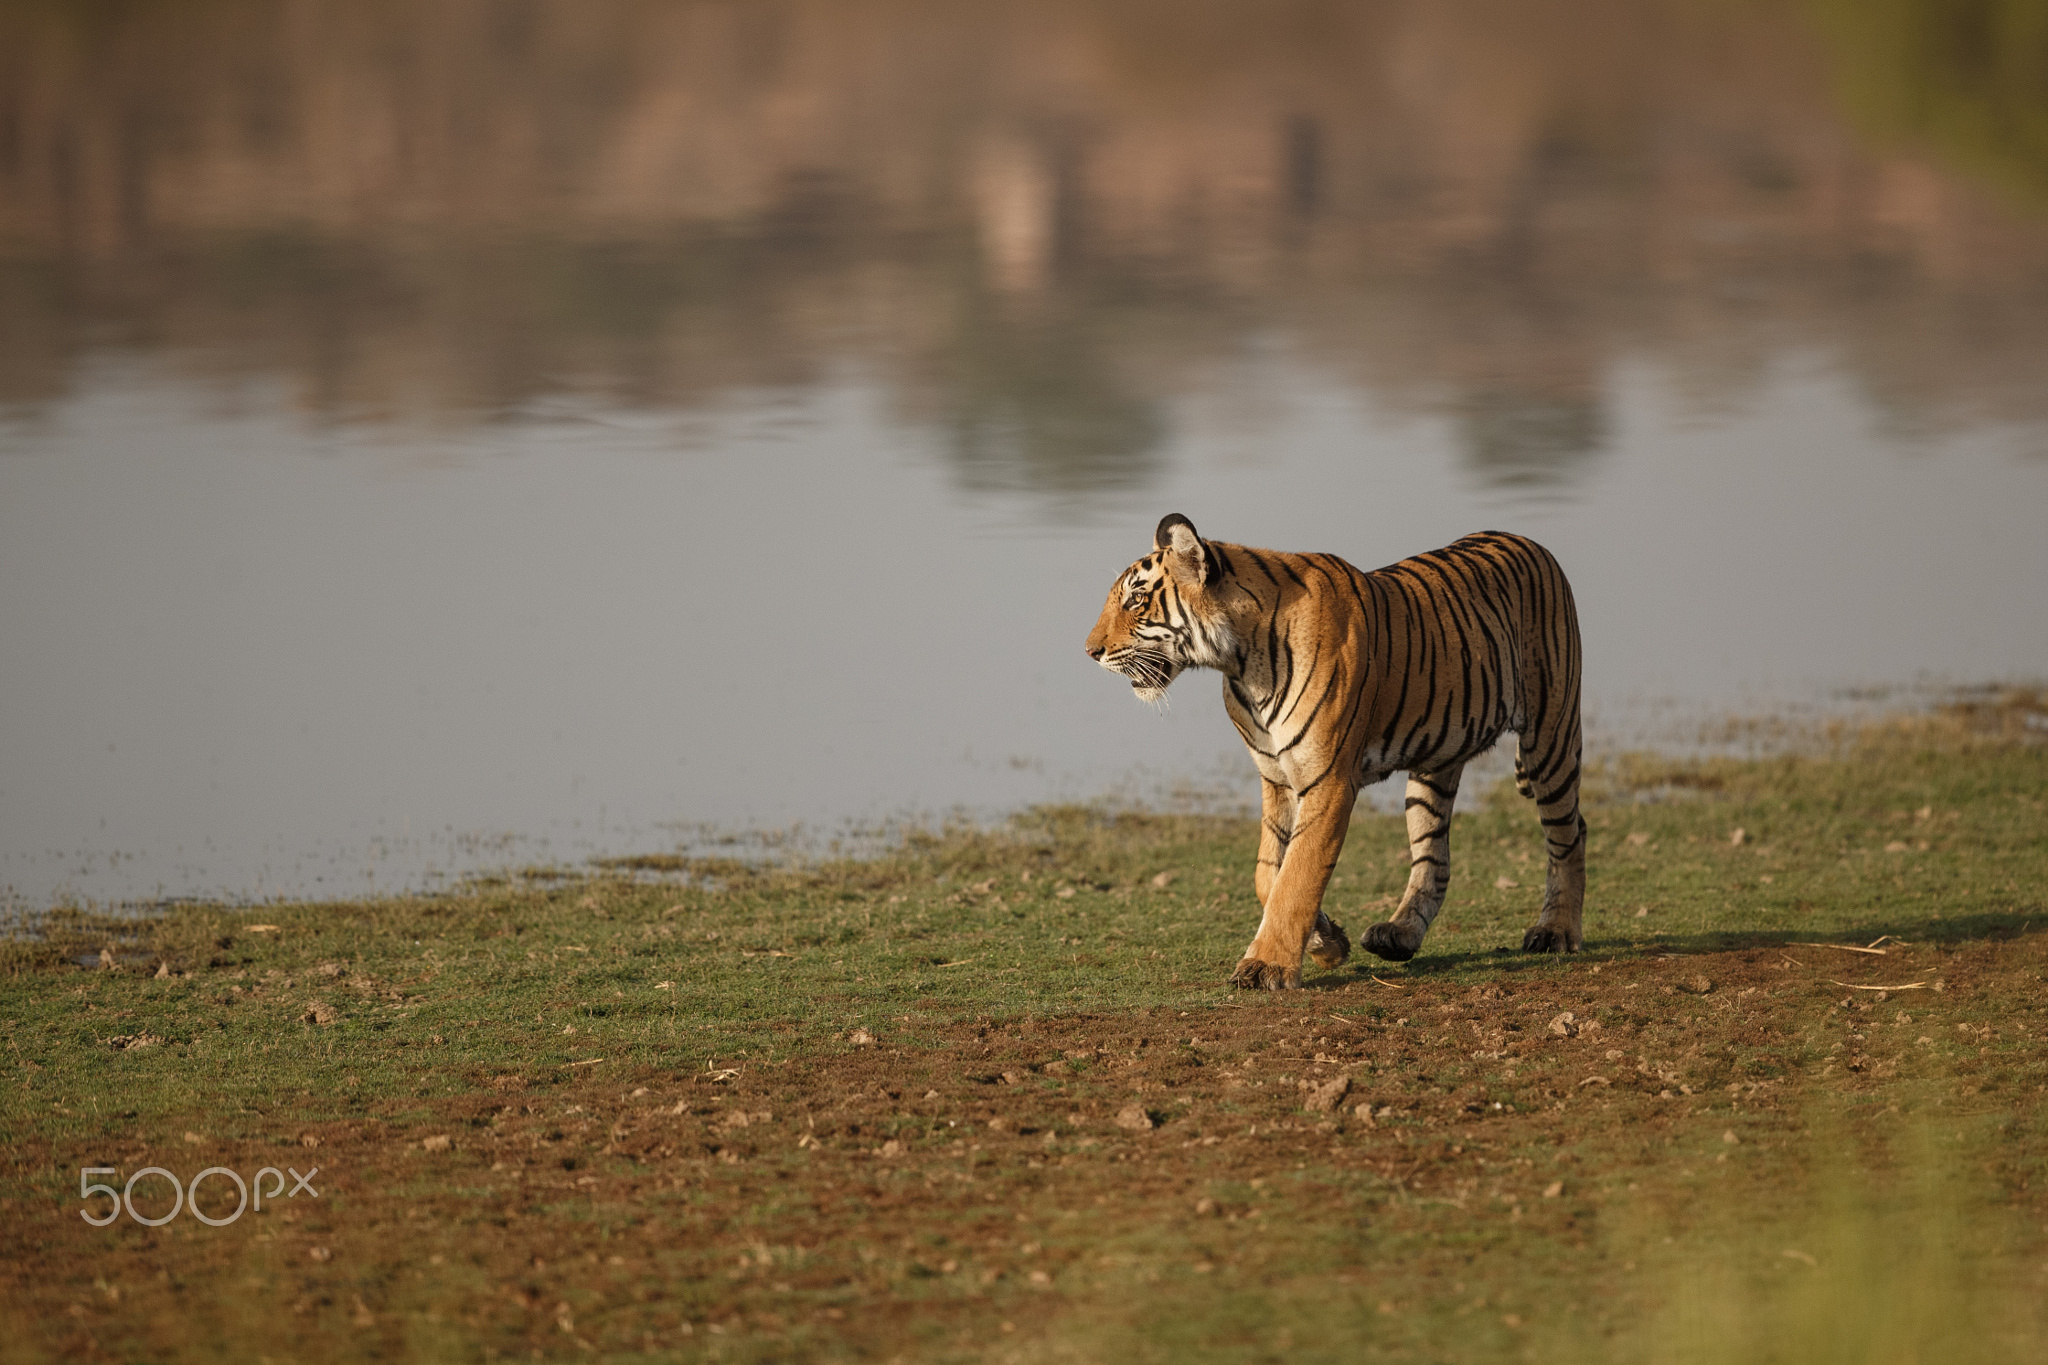tiger: (1066, 507, 1629, 978)
